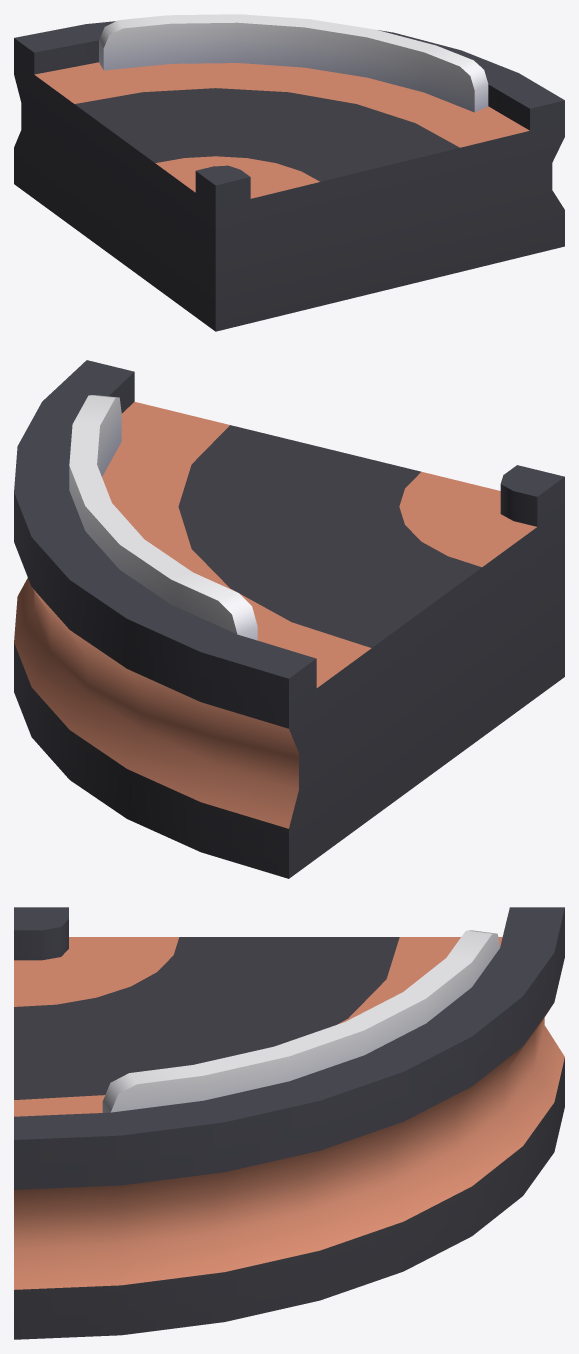
The model's file is conveyor-stripe-corner.obj.
The picture shows the model from 3 angles, top to bottom: view 1: azimuth 30°, elevation 25°; view 2: azimuth 150°, elevation 25°; view 3: azimuth 270°, elevation 25°; orthographic projection. The views are drawn at different scales.
Parts seen in each view (by area): view 1: conveyor-stripe-corner; view 2: conveyor-stripe-corner; view 3: conveyor-stripe-corner.
Boxes of the visible parts, bbox=[...] form: conveyor-stripe-corner: bbox=[14, 14, 564, 331]; conveyor-stripe-corner: bbox=[14, 360, 564, 878]; conveyor-stripe-corner: bbox=[14, 907, 564, 1339].
Bounding box in the file's own units: 1 × 0.45 × 1.
